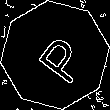P_NW: (24, 25, 86, 85)
